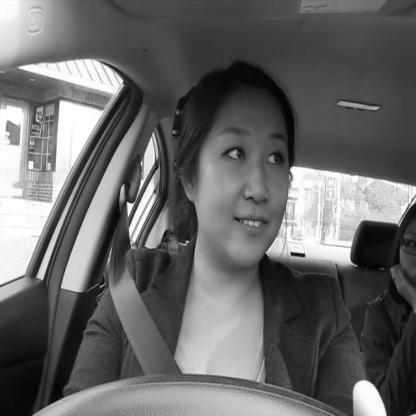seatbelt: (110, 56, 297, 416)
